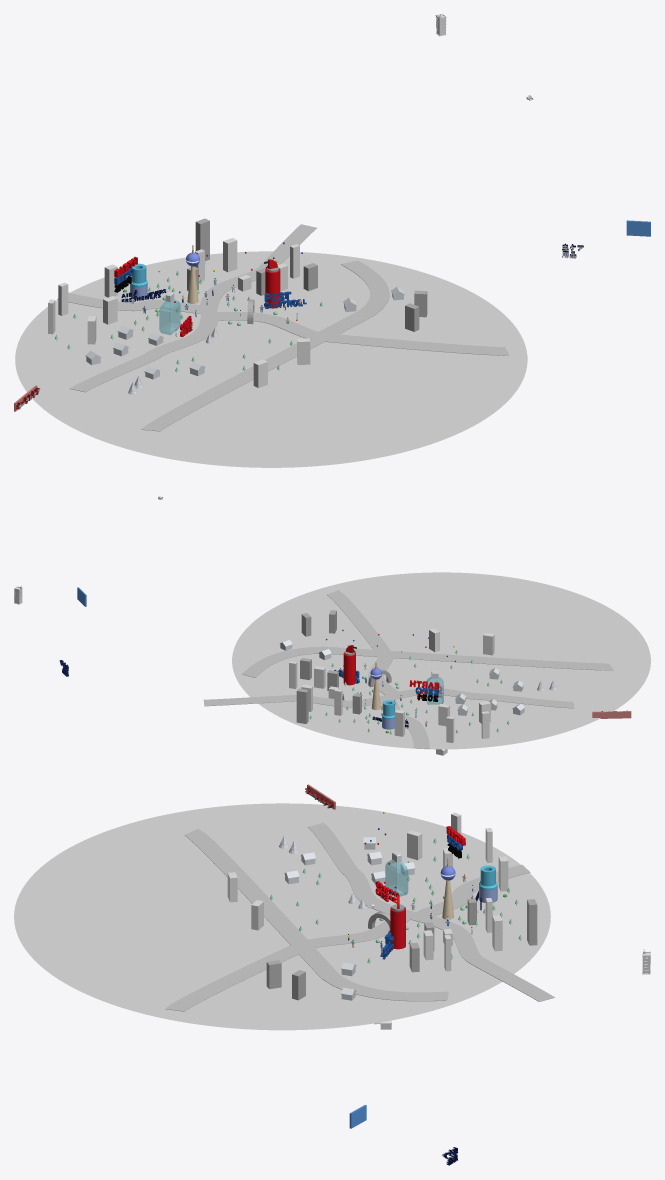
File: earth.fbx
The picture shows the model from 3 angles, top to bottom: view 1: azimuth 30°, elevation 25°; view 2: azimuth 150°, elevation 25°; view 3: azimuth 270°, elevation 25°; orthographic projection. The views are drawn at different scales.
Parts seen in each view (by area): view 1: 床, BezierCurve.002, 立方体.007; view 2: 床, BezierCurve.002, 立方体.012, 円柱; view 3: 床, BezierCurve.002, 立方体.007, 円柱.
Boxes of the visible parts, bbox=[...] form: 床: bbox=[15, 251, 527, 467]; BezierCurve.002: bbox=[57, 224, 509, 431]; 立方体.007: bbox=[159, 299, 180, 334]; 床: bbox=[232, 572, 650, 749]; BezierCurve.002: bbox=[203, 590, 613, 748]; 立方体.012: bbox=[296, 688, 308, 723]; 円柱: bbox=[343, 652, 355, 685]; 床: bbox=[14, 803, 550, 1030]; BezierCurve.002: bbox=[165, 822, 554, 1011]; 立方体.007: bbox=[385, 860, 408, 896]; 円柱: bbox=[390, 907, 405, 949].
Size of the model in its own units: 96117 by 32363 by 77007.
